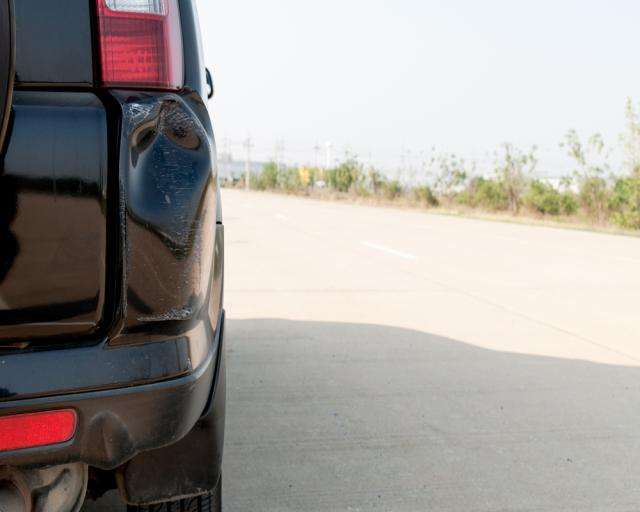dent: (125, 98, 211, 252), (81, 412, 130, 465)
scratch: (133, 202, 207, 323), (125, 102, 154, 128)
